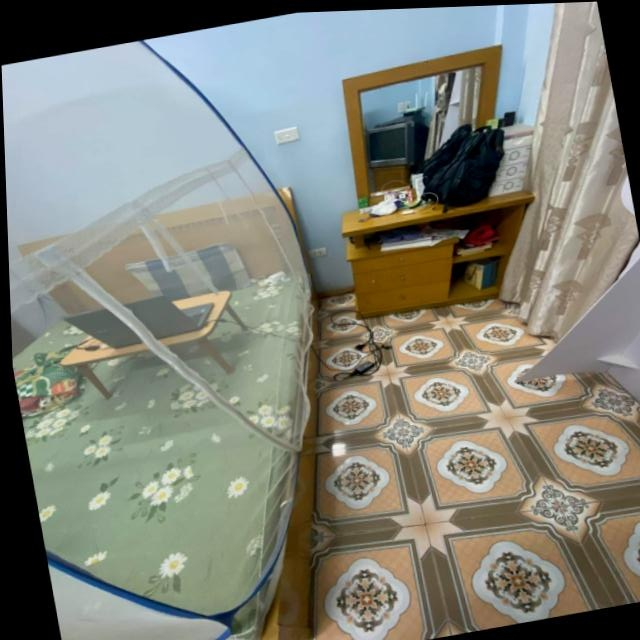outlet: (303, 245, 333, 264)
